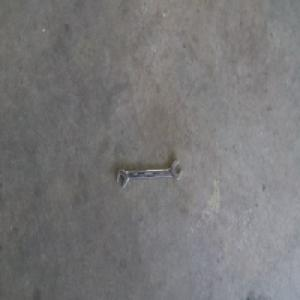Wrench: (115, 160, 182, 187)
